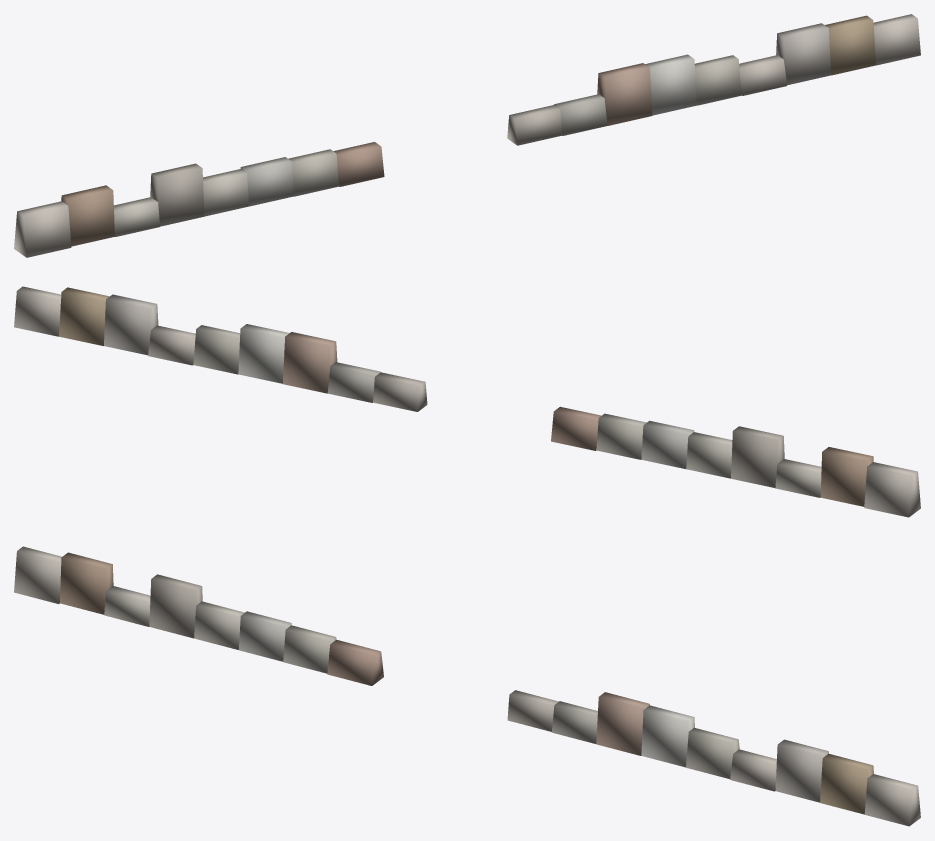
The model's file is farm_-4_1_collision.glb.
3 renders of one model, top to bottom at view 1: azimuth 30°, elevation 25°; view 2: azimuth 150°, elevation 25°; view 3: azimuth 330°, elevation 25°, orthographic.
Visible parts, largest first — view 1: geometry_0; view 2: geometry_0; view 3: geometry_0.
Boxes of the visible parts, x1,y1,x2,y2 form: geometry_0: [14, 14, 920, 257]; geometry_0: [14, 286, 920, 517]; geometry_0: [14, 546, 920, 826].
Size of the model in its own units: 30.55 by 2.16 by 1.1.
